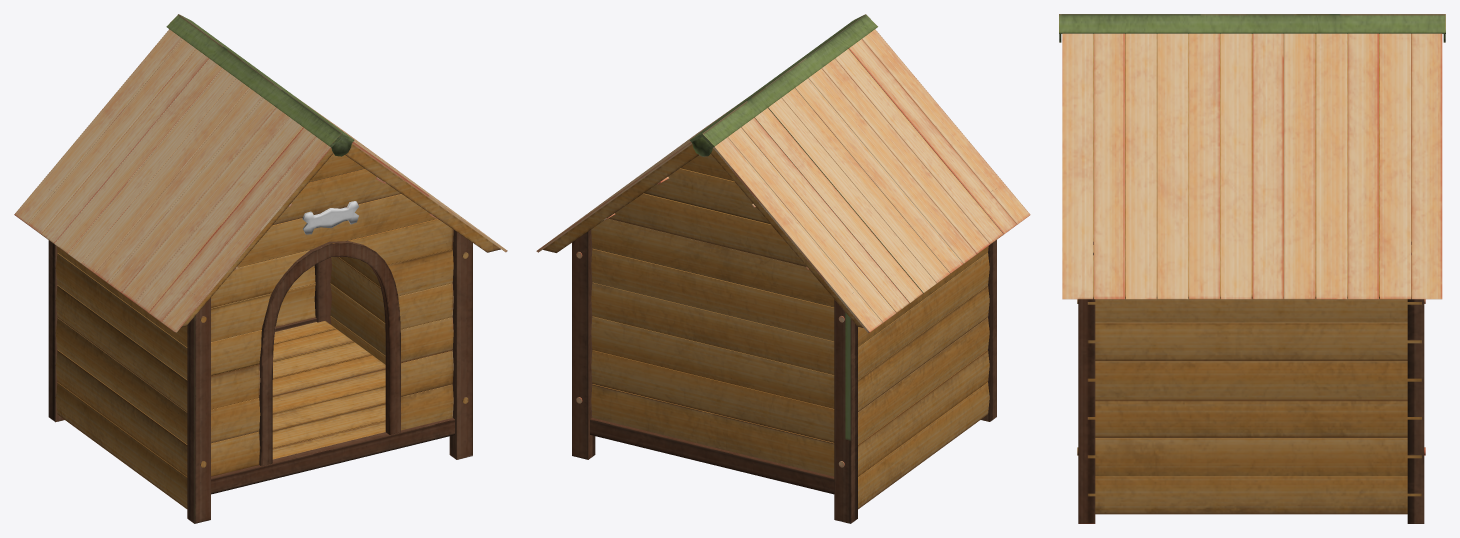
The model's file is dog_house_v1.fbx.
The picture shows the model from 3 angles, left to right: view 1: azimuth 30°, elevation 25°; view 2: azimuth 150°, elevation 25°; view 3: azimuth 270°, elevation 25°; orthographic projection. The views are drawn at different scales.
Visible parts, largest first — view 1: dog_house_v1; view 2: dog_house_v1; view 3: dog_house_v1.
Boxes of the visible parts, x1,y1,x2,y2 form: dog_house_v1: (14,14,507,523); dog_house_v1: (536,14,1030,523); dog_house_v1: (1059,14,1445,523).
Bounding box in the file's own units: 186 × 193 × 158.
Materials: 1 (1 with a texture image).
